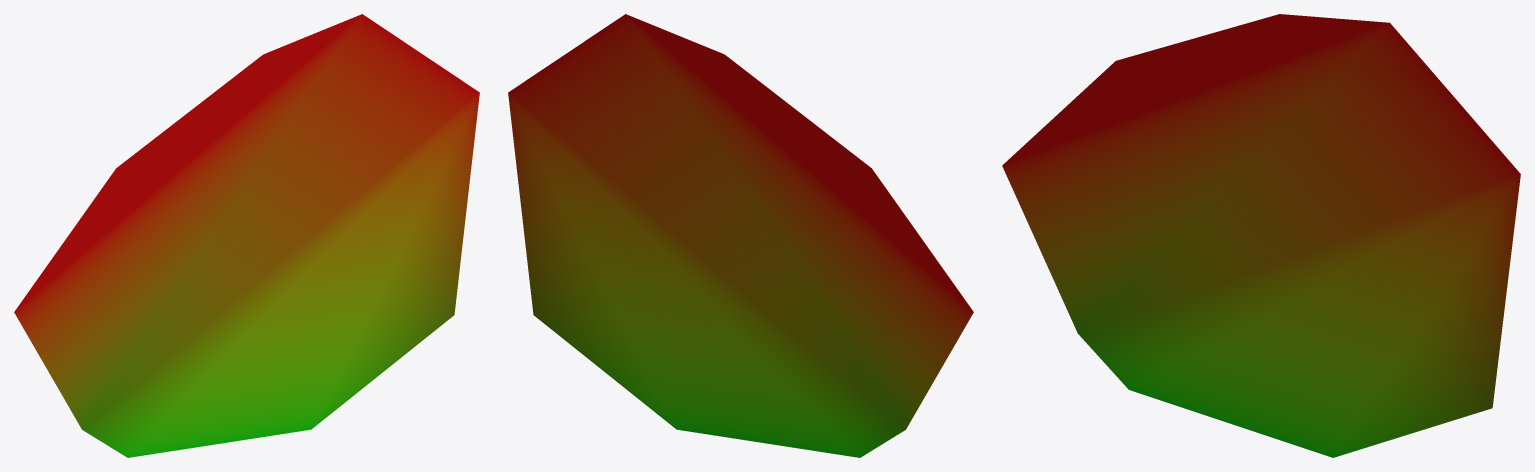
Rendered from Var13_LOD6.fbx.
3 views of the same model, side by side, from view 1: azimuth 30°, elevation 25°; view 2: azimuth 150°, elevation 25°; view 3: azimuth 330°, elevation 25° (orthographic). The views are drawn at different scales.
Parts seen in each view (by area): view 1: _8gon_Var13_LOD6; view 2: _8gon_Var13_LOD6; view 3: _8gon_Var13_LOD6.
Boxes of the visible parts, bbox=[...] form: _8gon_Var13_LOD6: bbox=[14, 14, 479, 457]; _8gon_Var13_LOD6: bbox=[508, 14, 973, 457]; _8gon_Var13_LOD6: bbox=[1002, 14, 1520, 457].
Bounding box in the file's own units: 210 × 173 × 1.51e-05.
